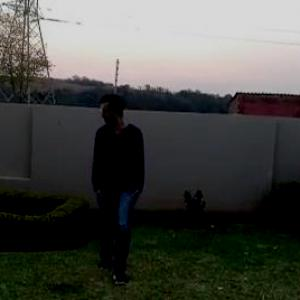follow: (78, 73, 144, 299)
